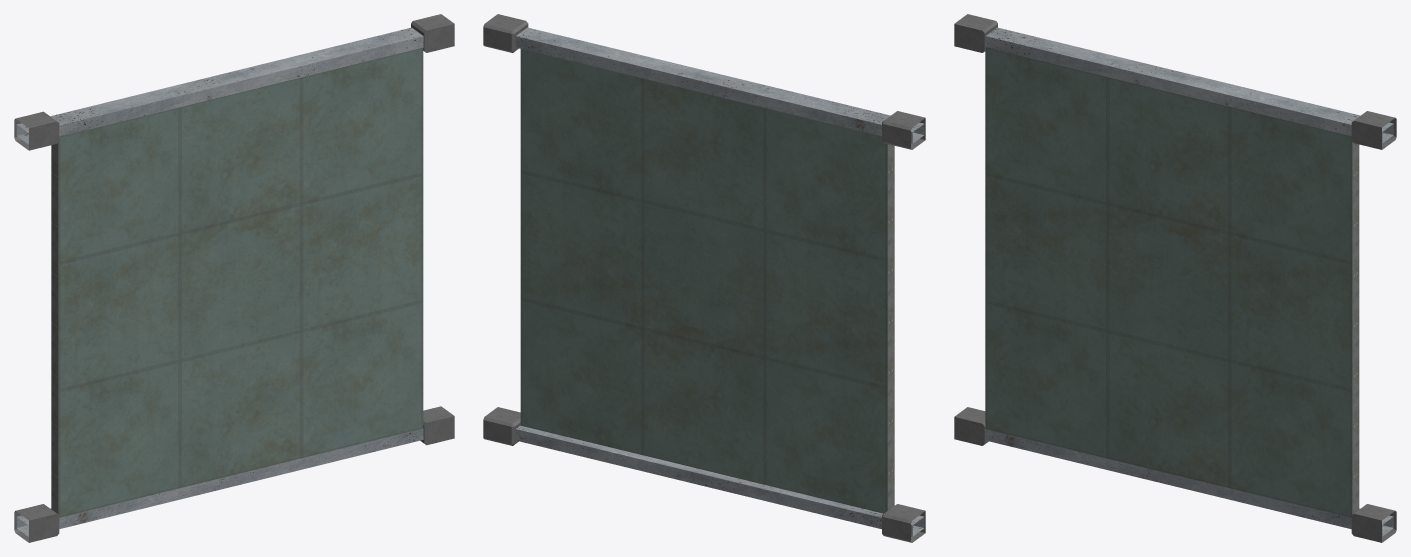
Rendered from Ob_ScafHorizWall_RC.fbx.
3 renders of one model, left to right at view 1: azimuth 30°, elevation 25°; view 2: azimuth 150°, elevation 25°; view 3: azimuth 330°, elevation 25°, orthographic.
Parts seen in each view (by area): view 1: Ob_ScafHorizWall_RC; view 2: Ob_ScafHorizWall_RC; view 3: Ob_ScafHorizWall_RC.
Boxes of the visible parts, x1,y1,x2,y2 form: Ob_ScafHorizWall_RC: [14, 14, 454, 542]; Ob_ScafHorizWall_RC: [483, 14, 925, 542]; Ob_ScafHorizWall_RC: [954, 14, 1396, 542].
Size of the model in its own units: 3602 by 3346 by 225.
